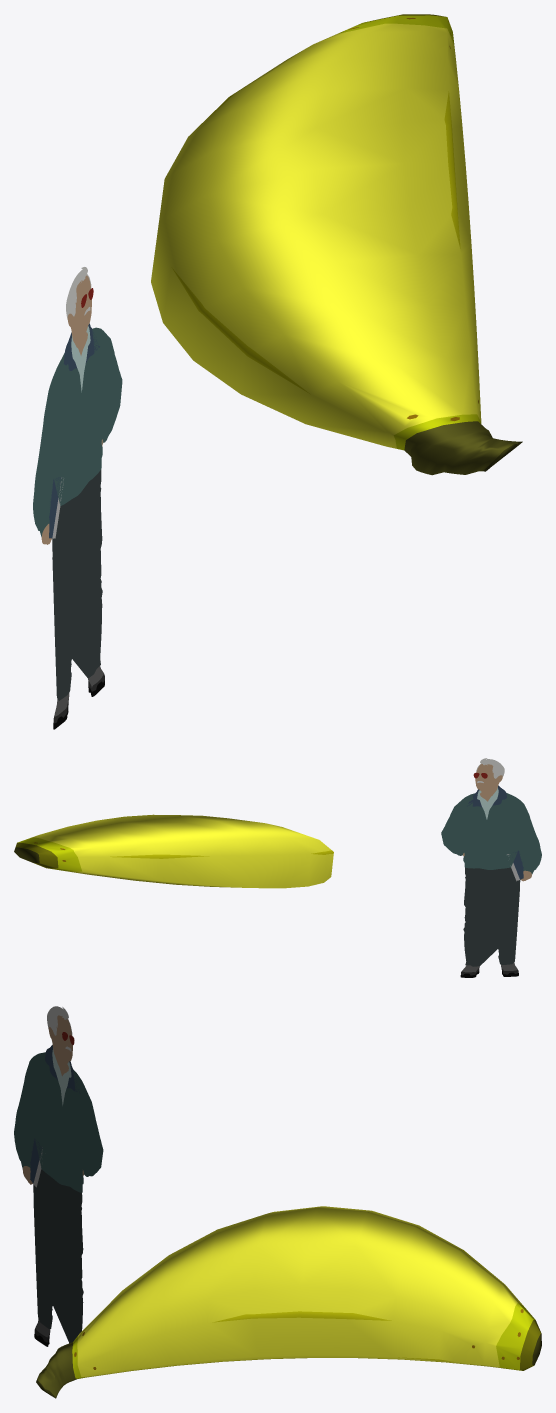
The model's file is banana.fbx.
3 renders of one model, top to bottom at view 1: azimuth 30°, elevation 25°; view 2: azimuth 150°, elevation 25°; view 3: azimuth 270°, elevation 25°, orthographic. The views are drawn at different scales.
Parts seen in each view (by area): view 1: Banana1, Steve1; view 2: Banana1, Steve1; view 3: Banana1, Steve1.
Part boxes in pixels (<box>): Banana1: <box>151,14,522,475</box>; Steve1: <box>33,267,122,729</box>; Banana1: <box>14,814,333,888</box>; Steve1: <box>441,758,541,977</box>; Banana1: <box>36,1206,541,1398</box>; Steve1: <box>14,1006,103,1346</box>.
Bounding box in the file's own units: 2.98 × 1.69 × 2.32.
